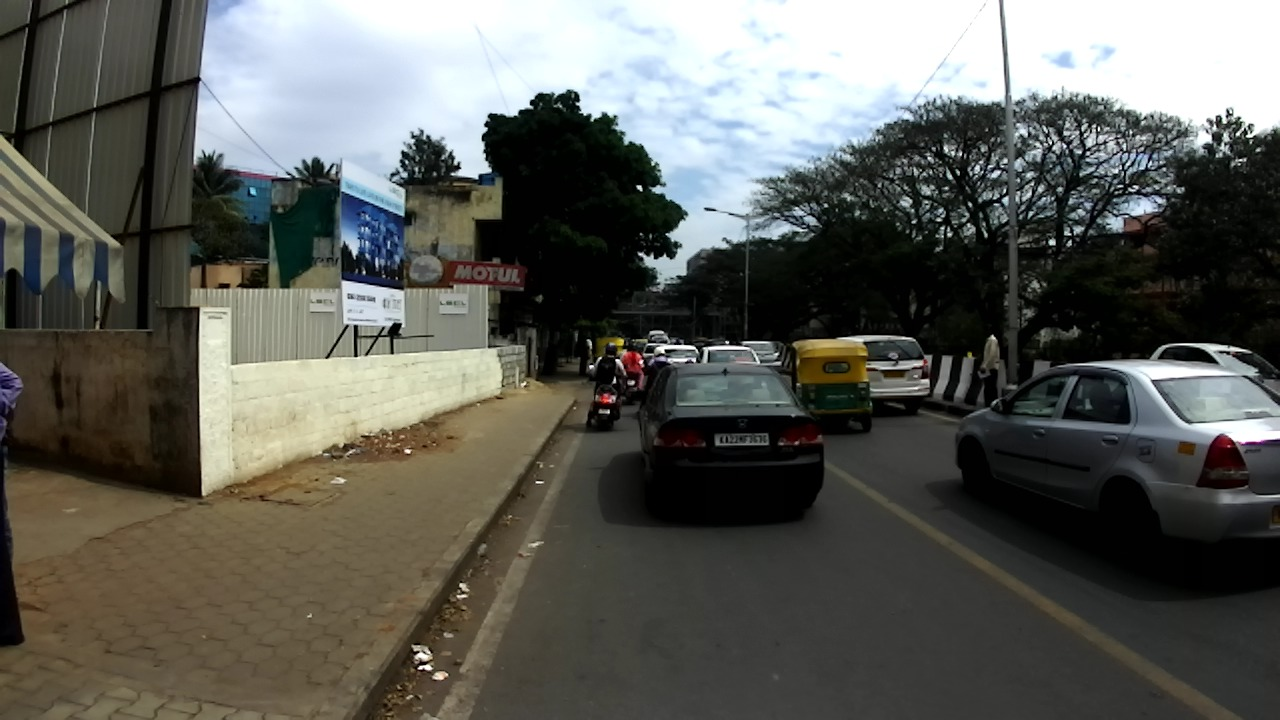autorickshaw: (789, 339, 873, 432), (592, 335, 624, 366)
car: (955, 359, 1280, 569), (630, 363, 825, 514), (834, 334, 930, 417), (1149, 342, 1280, 396), (740, 340, 783, 374), (696, 345, 762, 367), (649, 344, 699, 365), (641, 343, 670, 369)
motorcycle: (587, 372, 627, 432), (623, 375, 639, 406)
person: (1, 361, 25, 648), (977, 324, 999, 409), (577, 334, 589, 373), (583, 336, 592, 370)
rider: (585, 342, 626, 428), (639, 347, 673, 410), (621, 346, 644, 391), (617, 343, 628, 361), (728, 339, 740, 345), (672, 339, 682, 345)
vehicle fallback: (647, 330, 669, 345), (687, 339, 706, 351), (629, 339, 648, 350), (703, 338, 726, 347), (669, 337, 684, 345)
